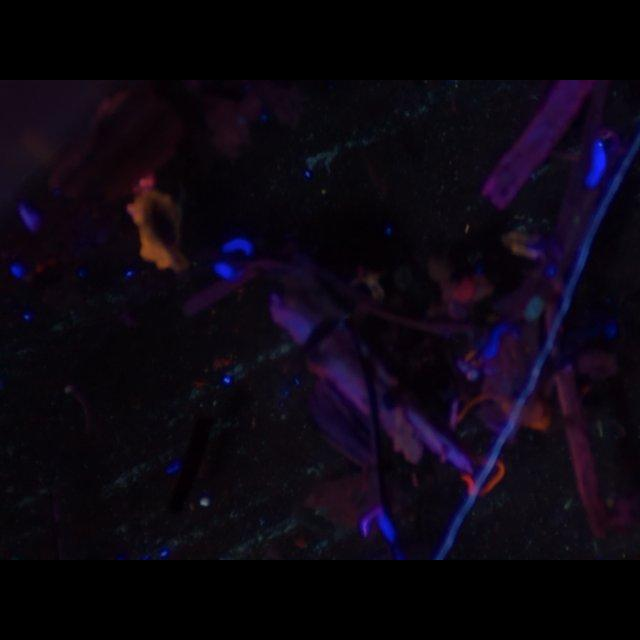microbeads: (200, 496, 208, 506)
